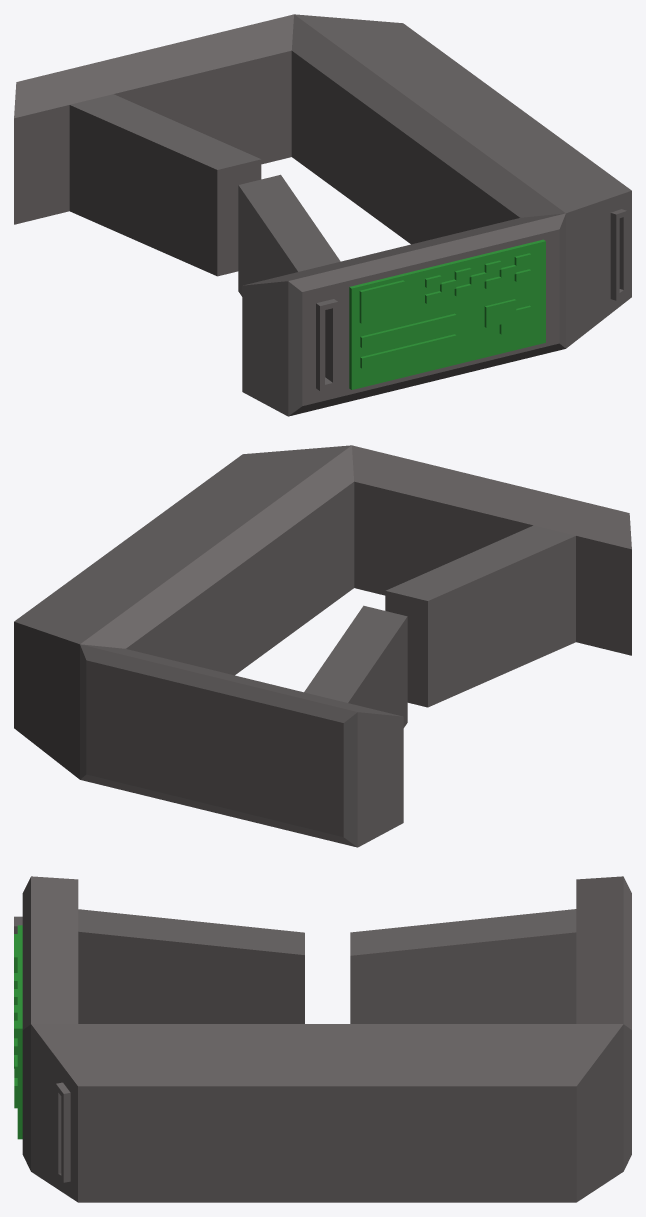
Rendered from scan.fbx.
3 views of the same model, one above another, from view 1: azimuth 30°, elevation 25°; view 2: azimuth 150°, elevation 25°; view 3: azimuth 270°, elevation 25° (orthographic). The views are drawn at different scales.
Parts seen in each view (by area): view 1: Cube, Cube.001; view 2: Cube; view 3: Cube, Cube.001.
Boxes of the visible parts, x1,y1,x2,y2 form: Cube: (14,14,631,416); Cube.001: (349,239,545,389); Cube: (14,445,631,847); Cube: (14,876,631,1202); Cube.001: (14,925,22,1139).
Bounding box in the file's own units: 448 × 149 × 565.
